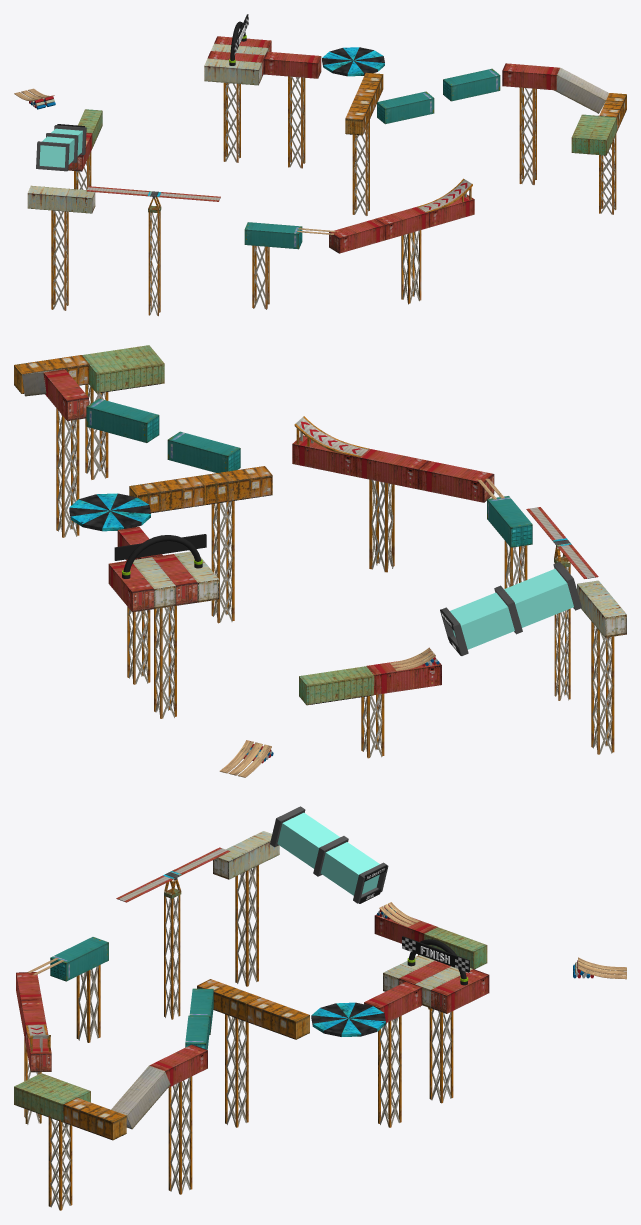
Rendered from 7_Parkour.fbx.
The picture shows the model from 3 angles, top to bottom: view 1: azimuth 30°, elevation 25°; view 2: azimuth 150°, elevation 25°; view 3: azimuth 270°, elevation 25°; orthographic projection. The views are drawn at different scales.
Parts seen in each view (by area): view 1: stcontainerwhite__1_, TurningPlatform, stcontainerred__9_, stcontainergreen, stcontainergreen__1_, stcontainergreen__2_, stcontainerwhite__4_, stcontainerred__8_, stcontainerred__7_, orangescaffold__7_, stcontainerwhitetwo__2_, NoGravityZone (+27 smaller); view 2: NoGravityZone, TurningPlatform, stcontainergreentwo__1_, stcontainergreentwo, stcontainergreen__1_, stcontainergreen__2_, stcontainerred__7_, stcontainerorange__2_, stcontainerred__6_, orangescaffold__7_, stcontainerorange__3_, stcontainerwhite__1_ (+28 smaller); view 3: NoGravityZone, TurningPlatform, stcontainerwhite__1_, stcontainerorange__1_, stcontainerwhitetwo__2_, stcontainerorange__3_, stcontainergreen, stcontainerred__10_, stcontainergreentwo__2_, orangescaffold__6_, stcontainerred__9_, stcontainerred__8_ (+30 smaller).
Boxes of the visible parts, x1,y1,x2,y2 form: stcontainerwhite__1_: (27,185,95,213); TurningPlatform: (322,47,384,76); stcontainerred__9_: (263,51,321,78); stcontainergreen: (244,222,302,249); stcontainergreen__1_: (443,68,500,101); stcontainergreen__2_: (377,91,434,124); stcontainerwhite__4_: (204,58,261,85); stcontainerred__8_: (502,63,559,90); stcontainerred__7_: (329,219,384,253); orangescaffold__7_: (401,230,421,304); stcontainerwhitetwo__2_: (554,67,609,113); NoGravityZone: (39,128,82,167); NoGravityZone: (450,569,573,649); TurningPlatform: (69,493,150,531); stcontainergreentwo__1_: (89,354,164,393); stcontainergreentwo: (299,666,374,705); stcontainergreen__1_: (86,398,159,442); stcontainergreen__2_: (167,431,240,472); stcontainerred__7_: (419,461,494,502); stcontainerorange__2_: (197,466,272,505); stcontainerred__6_: (354,449,428,489); orangescaffold__7_: (369,479,394,572); stcontainerorange__3_: (129,476,204,513); stcontainerwhite__1_: (577,580,626,637); NoGravityZone: (277,812,379,895); TurningPlatform: (311,1002,385,1036); stcontainerwhite__1_: (213,831,279,879); stcontainerorange__1_: (63,1097,126,1140); stcontainerwhitetwo__2_: (111,1065,170,1129); stcontainerorange__3_: (246,997,309,1039); stcontainergreen: (50,937,108,981); stcontainerred__10_: (431,969,489,1013); stcontainergreentwo__2_: (14,1080,76,1122); orangescaffold__6_: (76,965,100,1042); stcontainerred__9_: (364,981,422,1022); stcontainerred__8_: (149,1044,207,1087).
Bounding box in the file's own units: 18578 × 5367 × 15578.
